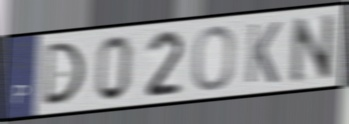0: (94, 32, 135, 103)
2: (144, 28, 184, 99)
D: (41, 40, 87, 109)
K: (244, 20, 283, 86)
N: (290, 11, 336, 86)
O: (190, 23, 236, 93)
